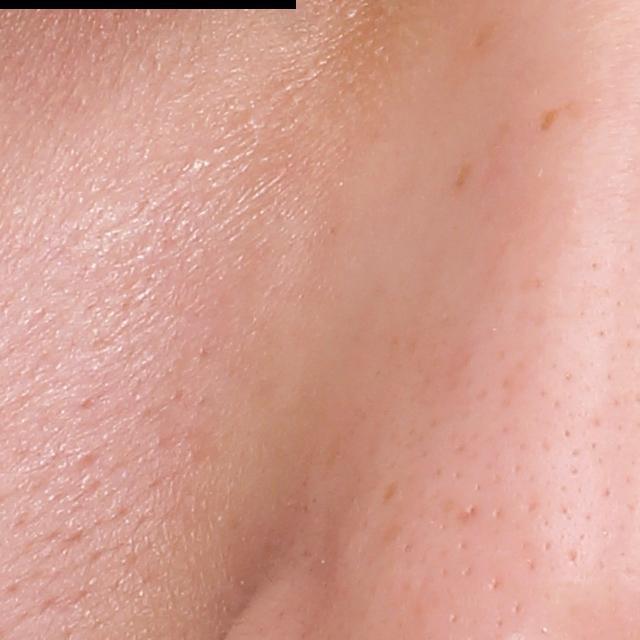melasma: (472, 21, 498, 51), (452, 159, 474, 192), (538, 107, 565, 133)
